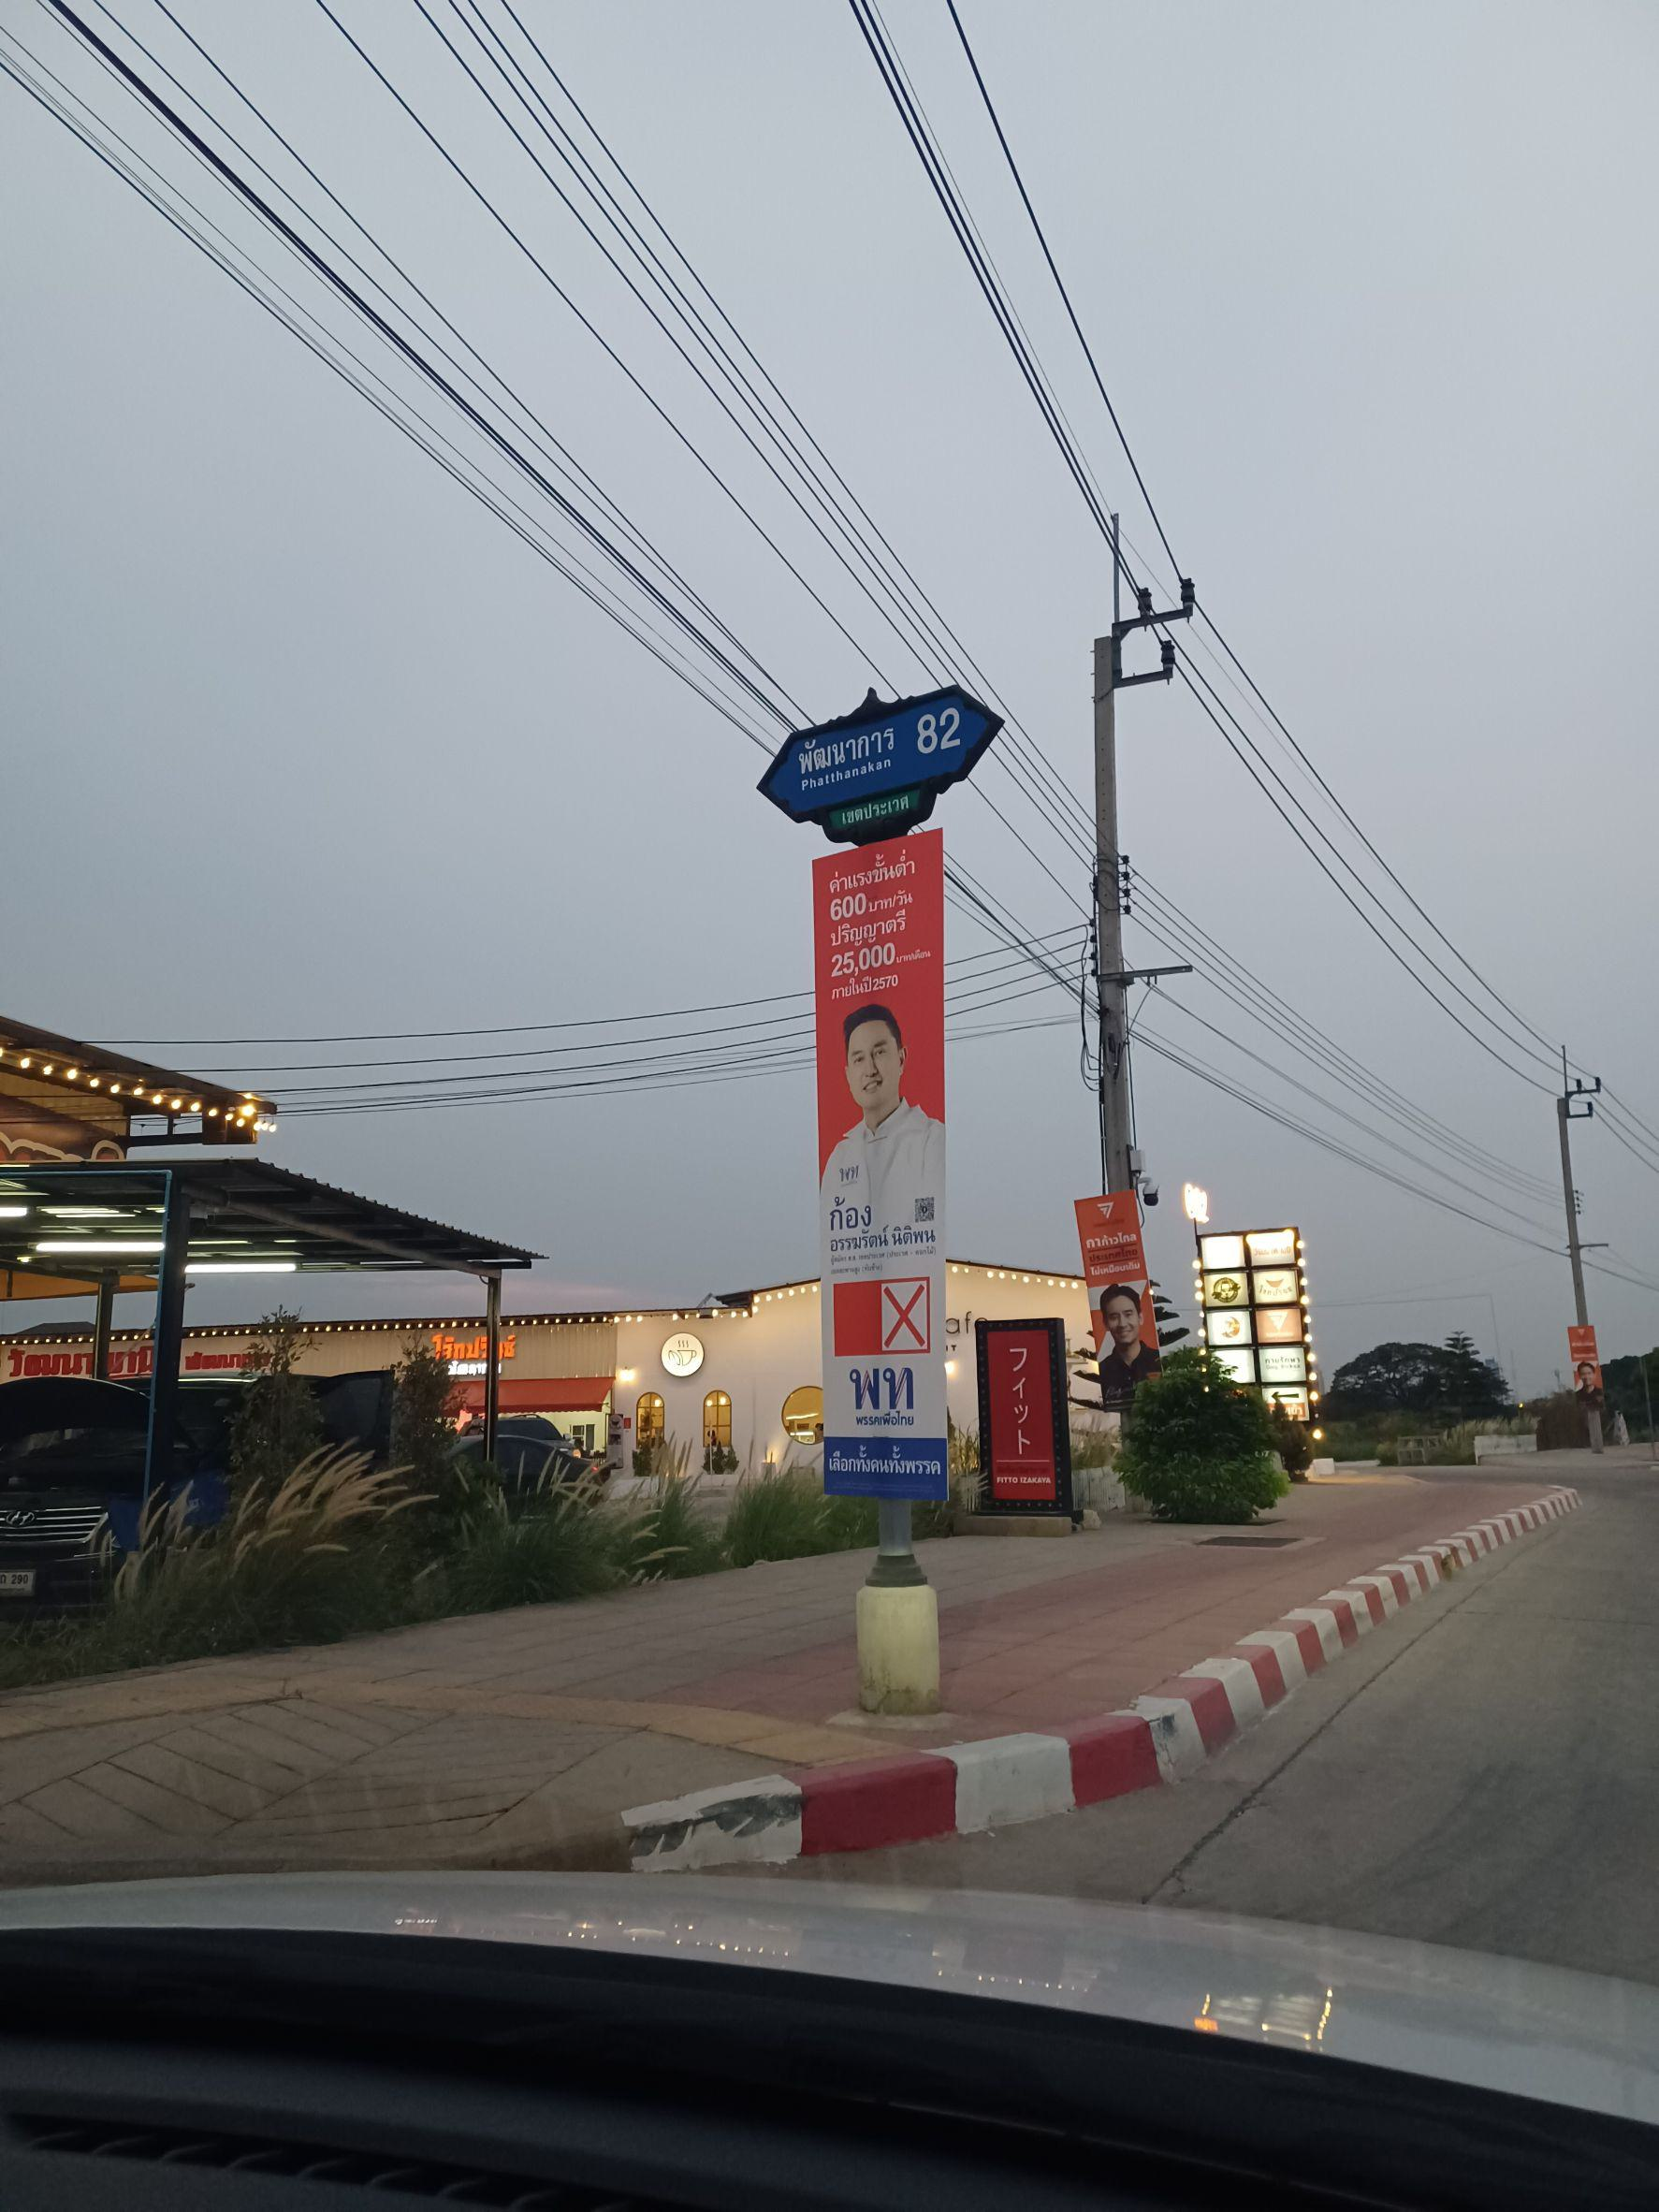Banner: (809, 824, 951, 1510)
